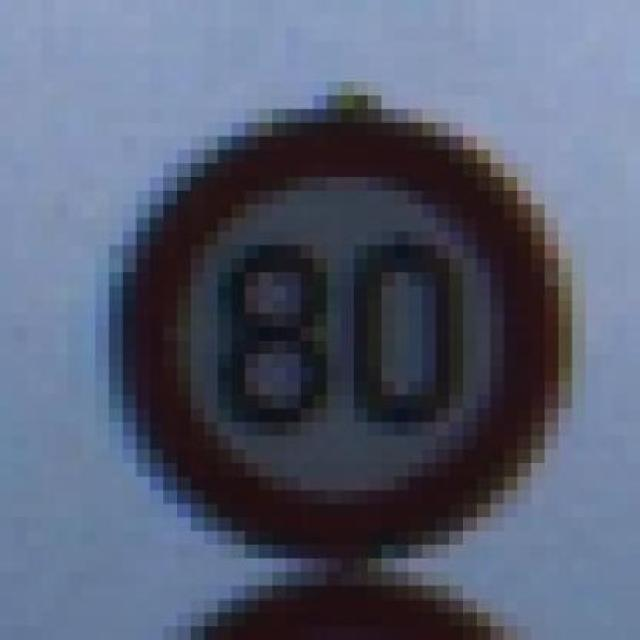forb_speed_over_80: (136, 120, 564, 552)
